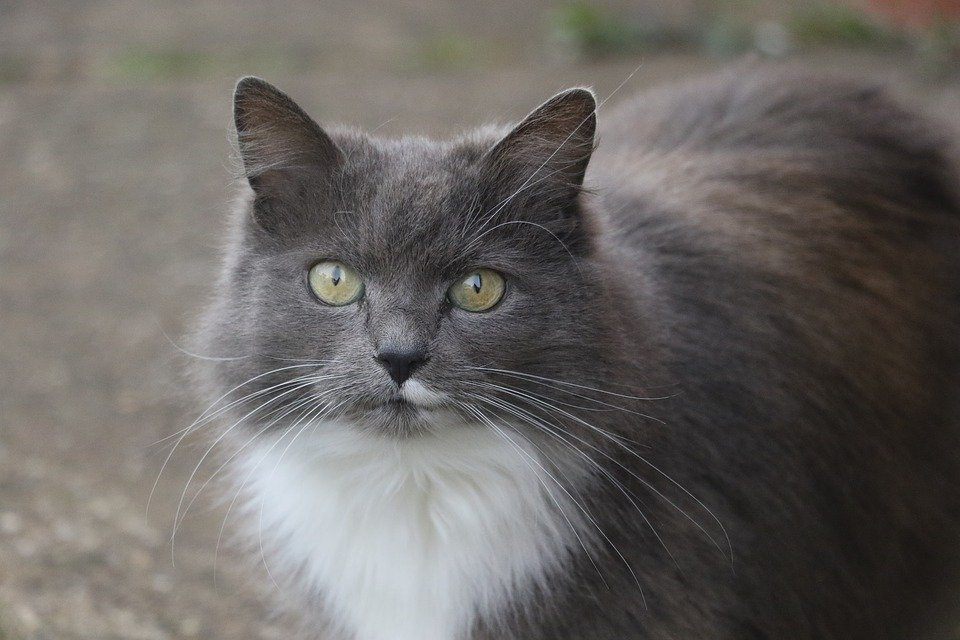cat-face: (136, 66, 727, 563)
